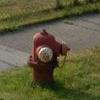Hydrant: (19, 20, 76, 93)
